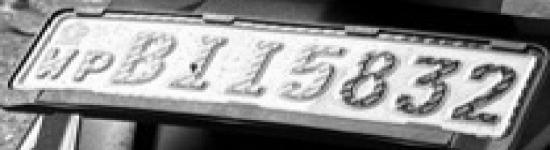2: (438, 54, 528, 128)
3: (381, 48, 474, 124)
5: (267, 39, 355, 108)
8: (328, 42, 412, 116)
B: (101, 26, 191, 94)
I: (212, 32, 298, 103), (157, 31, 244, 97)
P: (63, 45, 122, 87)
W: (27, 43, 84, 85)
